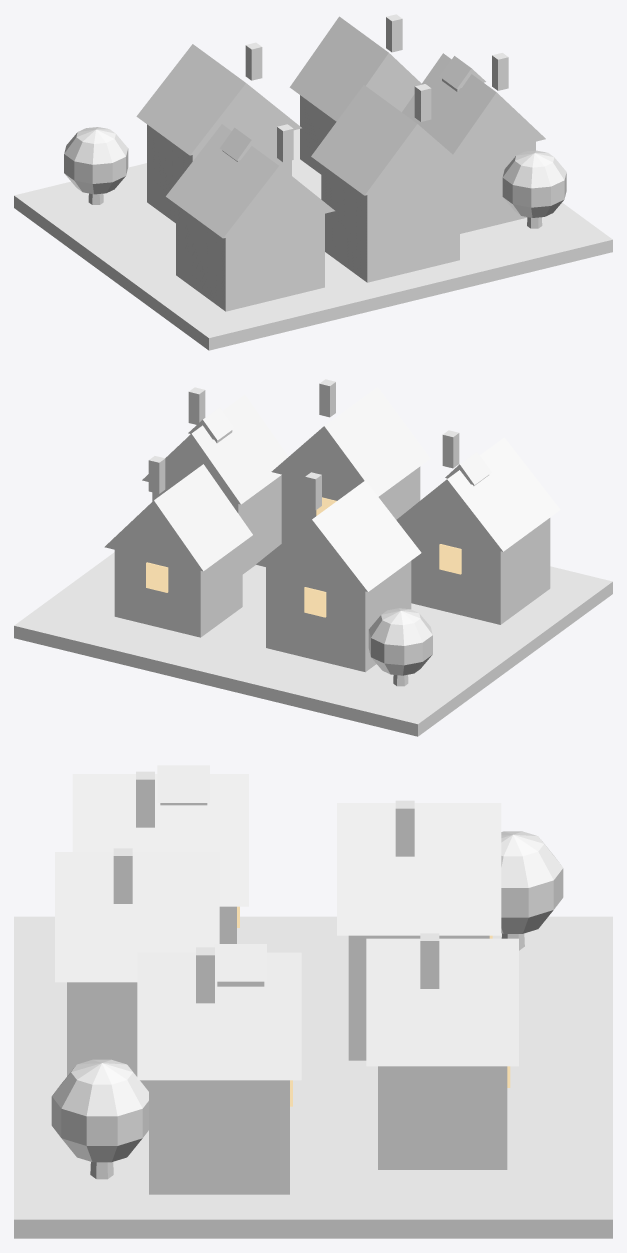
The model's file is SA-001_Roster_Houses.glb.
3 renders of one model, top to bottom at view 1: azimuth 30°, elevation 25°; view 2: azimuth 150°, elevation 25°; view 3: azimuth 270°, elevation 25°, orthographic. The views are drawn at different scales.
Parts seen in each view (by area): view 1: Building_Plinth.004, House_Base_1, House_Base_0, House_Roof_0, House_Roof_1, House_Roof_3, House_Roof_4, House_Roof_2, House_Base_2, Tree_Canopy_0, Tree_Canopy_1, House_Base_3 (+8 smaller); view 2: Building_Plinth.004, House_Base_0, House_Base_3, House_Roof_3, House_Roof_0, House_Roof_1, House_Roof_4, House_Base_4, House_Roof_2, Tree_Canopy_0, House_Base_1, House_Base_2 (+10 smaller); view 3: Building_Plinth.004, House_Roof_3, House_Roof_4, House_Roof_2, House_Roof_1, House_Base_2, House_Base_4, House_Roof_0, Tree_Canopy_1, House_Base_1, Tree_Canopy_0, House_Base_3 (+8 smaller).
Part boxes in pixels (bbox=[...]): Building_Plinth.004: bbox=[14, 129, 612, 350]; House_Base_1: bbox=[321, 164, 459, 282]; House_Base_0: bbox=[176, 204, 324, 311]; House_Roof_0: bbox=[166, 124, 334, 238]; House_Roof_1: bbox=[311, 85, 469, 195]; House_Roof_3: bbox=[136, 44, 301, 155]; House_Roof_4: bbox=[289, 16, 421, 121]; House_Roof_2: bbox=[402, 53, 545, 160]; House_Base_2: bbox=[460, 141, 535, 233]; Tree_Canopy_0: bbox=[64, 127, 128, 194]; Tree_Canopy_1: bbox=[502, 150, 566, 217]; House_Base_3: bbox=[147, 124, 291, 223]; Building_Plinth.004: bbox=[14, 552, 612, 736]; House_Base_0: bbox=[402, 518, 550, 624]; House_Base_3: bbox=[266, 561, 411, 672]; House_Roof_3: bbox=[256, 480, 421, 591]; House_Roof_0: bbox=[396, 437, 560, 551]; House_Roof_1: bbox=[271, 387, 430, 496]; House_Roof_4: bbox=[104, 464, 252, 571]; House_Base_4: bbox=[114, 543, 242, 637]; House_Roof_2: bbox=[142, 394, 288, 504]; Tree_Canopy_0: bbox=[368, 608, 432, 675]; House_Base_1: bbox=[281, 466, 420, 543]; House_Base_2: bbox=[152, 475, 281, 574]; Building_Plinth.004: bbox=[14, 916, 612, 1238]; House_Roof_3: bbox=[337, 803, 501, 935]; House_Roof_4: bbox=[366, 938, 518, 1066]; House_Roof_2: bbox=[137, 952, 301, 1080]; House_Roof_1: bbox=[55, 852, 219, 982]; House_Base_2: bbox=[149, 1080, 289, 1194]; House_Base_4: bbox=[378, 1066, 507, 1169]; House_Roof_0: bbox=[72, 774, 248, 906]; Tree_Canopy_1: bbox=[51, 1059, 148, 1162]; House_Base_1: bbox=[67, 982, 148, 1091]; Tree_Canopy_0: bbox=[501, 831, 563, 933]; House_Base_3: bbox=[348, 935, 489, 1060].
Size of the model in its own units: 6.1 by 2.55 by 5.1.
